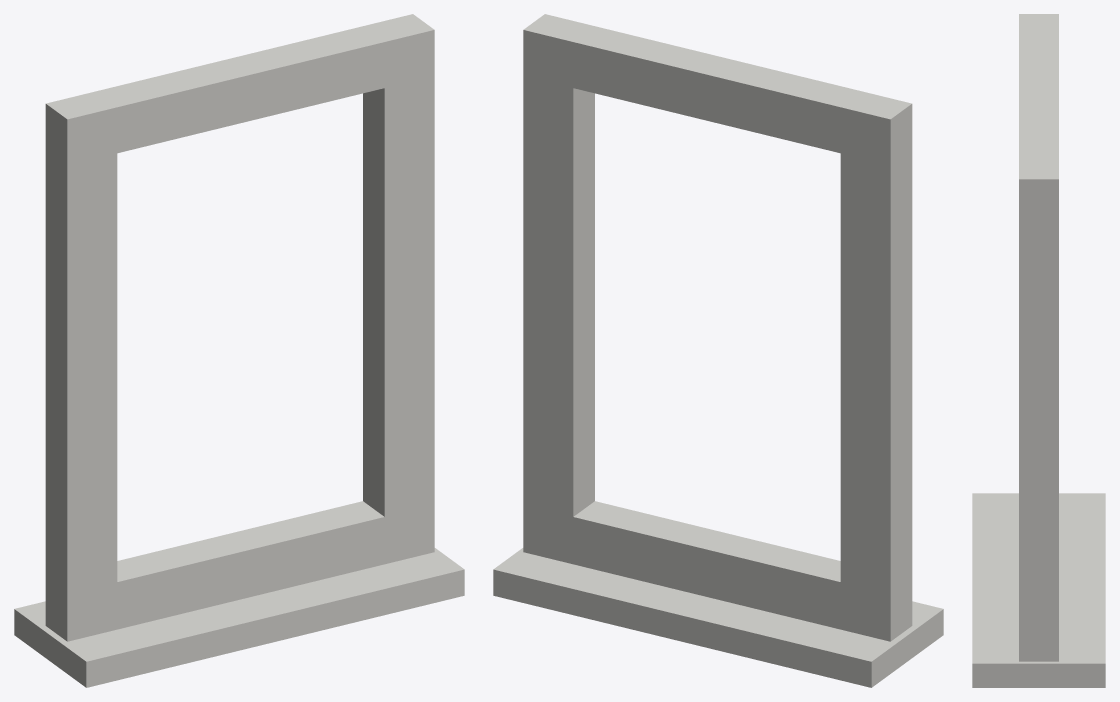
The model's file is Window_3C.fbx.
The picture shows the model from 3 angles, left to right: view 1: azimuth 30°, elevation 25°; view 2: azimuth 150°, elevation 25°; view 3: azimuth 270°, elevation 25°; orthographic projection. The views are drawn at different scales.
Parts seen in each view (by area): view 1: polySurface1620; view 2: polySurface1620; view 3: polySurface1620.
Part boxes in pixels (<box>): polySurface1620: <box>14,14,464,687</box>; polySurface1620: <box>493,14,943,687</box>; polySurface1620: <box>972,14,1105,687</box>.
Size of the model in its own units: 1.51 by 2.09 by 0.5.
1 material, 1 textured.
